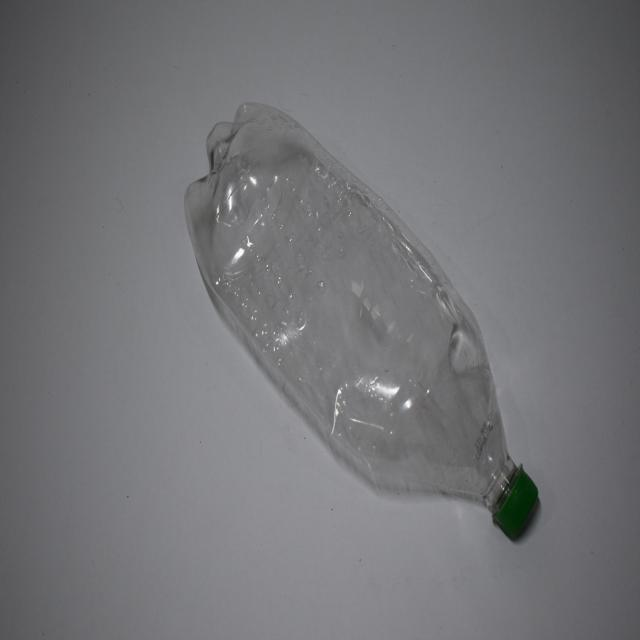empty: (185, 103, 537, 536)
